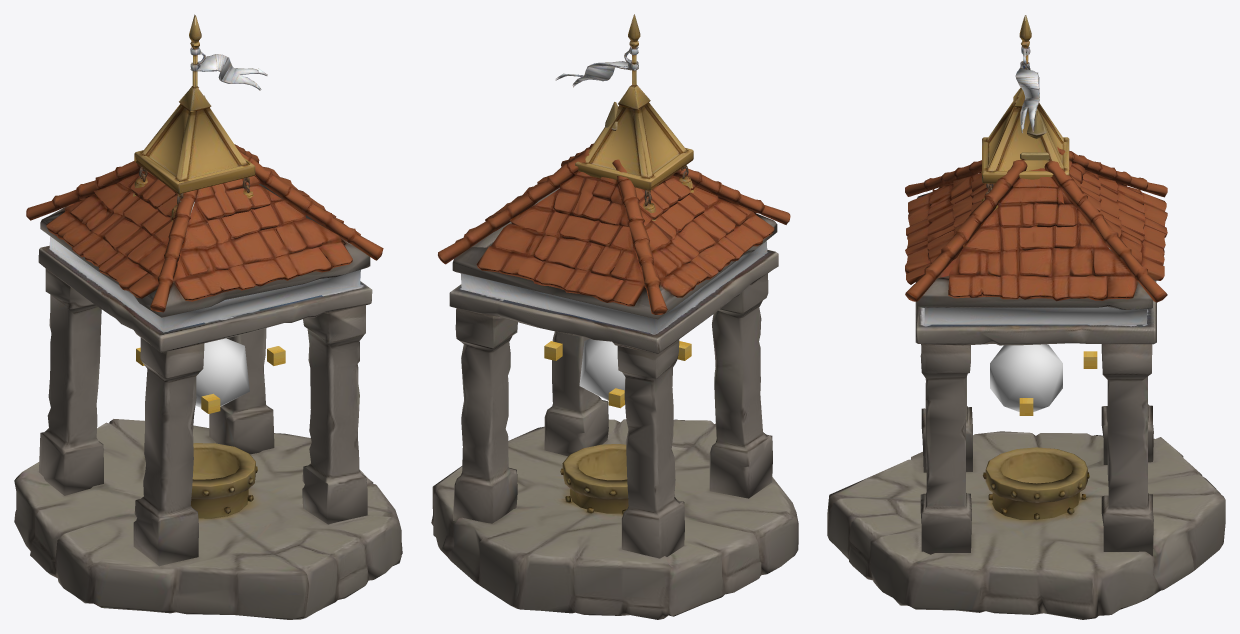
File: support.glb
The picture shows the model from 3 angles, left to right: view 1: azimuth 30°, elevation 25°; view 2: azimuth 150°, elevation 25°; view 3: azimuth 270°, elevation 25°; orthographic projection. The views are drawn at different scales.
Parts seen in each view (by area): view 1: support, addon_spire, spin_support; view 2: support, addon_spire, spin_support; view 3: support, addon_spire, spin_support.
Boxes of the visible parts, bbox=[...] form: support: bbox=[14, 95, 402, 619]; addon_spire: bbox=[133, 14, 267, 222]; spin_support: bbox=[136, 338, 285, 413]; support: bbox=[431, 102, 798, 619]; addon_spire: bbox=[555, 14, 694, 220]; spin_support: bbox=[544, 339, 691, 408]; support: bbox=[827, 108, 1225, 619]; addon_spire: bbox=[981, 15, 1069, 210]; spin_support: bbox=[990, 344, 1097, 415].
Size of the model in its own units: 2.63 by 4.31 by 2.97.
Materials: 6 (5 with a texture image).
